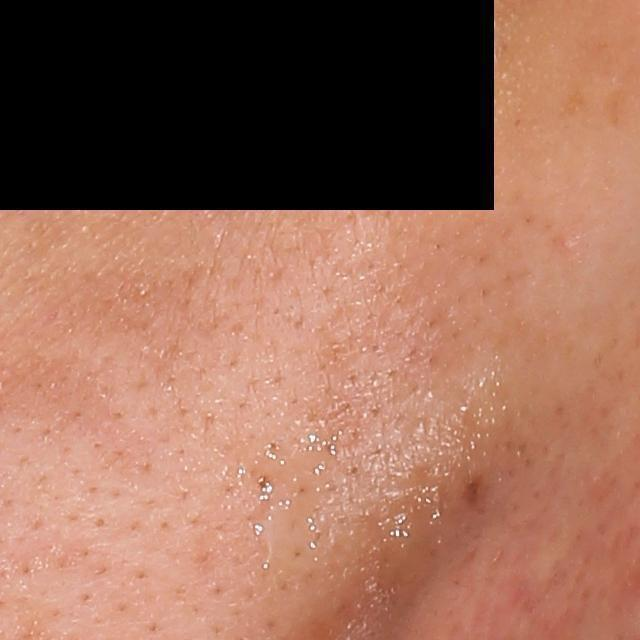comedo: (557, 232, 579, 252)
nevus: (458, 473, 484, 508)
